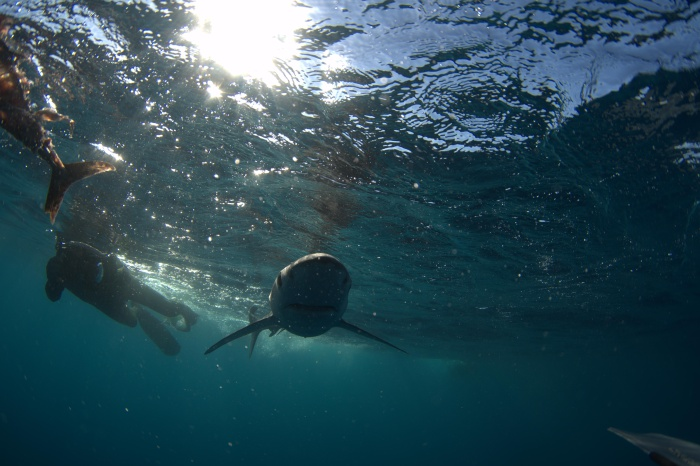Azul: (191, 251, 401, 358)
